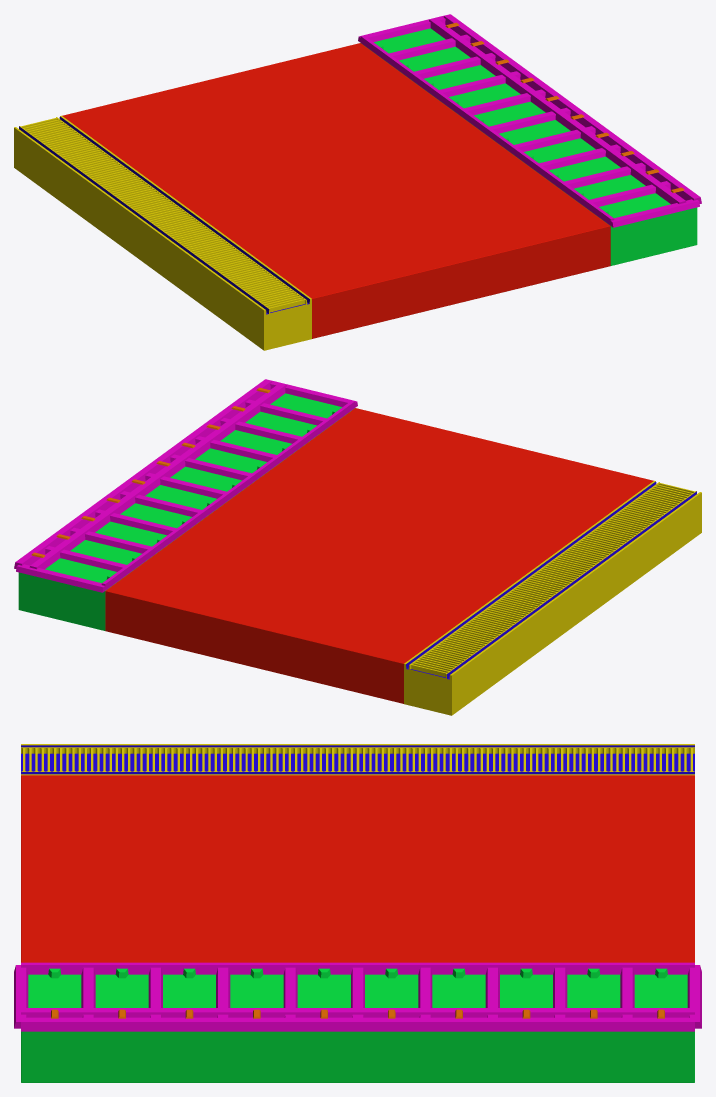
The model's file is Wall_HP.fbx.
The picture shows the model from 3 angles, top to bottom: view 1: azimuth 30°, elevation 25°; view 2: azimuth 150°, elevation 25°; view 3: azimuth 270°, elevation 25°; orthographic projection. The views are drawn at different scales.
Parts seen in each view (by area): view 1: Cube.005, Cube.007, Cube.006, Plane.025, Plane.023, Plane.024, Plane.022, Plane.012, Plane.014, Plane.013, Plane.019, Plane.015 (+5 smaller); view 2: Cube.005, Cube.007, Cube.006, Plane.025, Plane.023, Plane.024, Plane.012, Plane.022, Plane.020, Plane.015, Plane.021, Plane.018 (+5 smaller); view 3: Cube.005, Cube.006, Cube.007, Plane.023, Plane.024, Plane.025, Plane.012, Plane.022, Plane.013, Plane.021, Plane.016, Plane.018 (+5 smaller).
Boxes of the visible parts, left/top/right/bottom form: Cube.005: left=62, top=43, right=610, bottom=338; Cube.007: left=14, top=115, right=311, bottom=350; Cube.006: left=361, top=28, right=697, bottom=265; Plane.025: left=429, top=17, right=686, bottom=204; Plane.023: left=443, top=14, right=701, bottom=203; Plane.024: left=360, top=35, right=614, bottom=223; Plane.022: left=608, top=199, right=699, bottom=227; Plane.012: left=358, top=15, right=445, bottom=44; Plane.014: left=408, top=53, right=495, bottom=80; Plane.013: left=383, top=34, right=470, bottom=62; Plane.019: left=533, top=144, right=620, bottom=172; Plane.015: left=433, top=71, right=520, bottom=99; Cube.005: left=105, top=408, right=653, bottom=703; Cube.007: left=404, top=480, right=701, bottom=715; Cube.006: left=18, top=393, right=354, bottom=630; Plane.025: left=29, top=382, right=286, bottom=569; Plane.023: left=14, top=379, right=272, bottom=568; Plane.024: left=101, top=400, right=355, bottom=588; Plane.012: left=16, top=564, right=107, bottom=592; Plane.022: left=270, top=380, right=357, bottom=409; Plane.020: left=220, top=418, right=307, bottom=445; Plane.015: left=95, top=509, right=182, bottom=537; Plane.021: left=245, top=399, right=332, bottom=427; Plane.018: left=170, top=454, right=257, bottom=482; Cube.005: left=21, top=775, right=694, bottom=962; Cube.006: left=21, top=974, right=694, bottom=1082; Cube.007: left=21, top=744, right=694, bottom=775; Plane.023: left=21, top=1017, right=694, bottom=1031; Plane.024: left=21, top=962, right=694, bottom=974; Plane.025: left=21, top=1008, right=694, bottom=1017; Plane.012: left=687, top=965, right=701, bottom=1028; Plane.022: left=14, top=965, right=28, bottom=1028; Plane.013: left=620, top=967, right=634, bottom=1017; Plane.021: left=81, top=967, right=95, bottom=1017; Plane.016: left=418, top=967, right=432, bottom=1017; Plane.018: left=283, top=967, right=297, bottom=1017.
Size of the model in its own units: 202 by 21.3 by 204.
